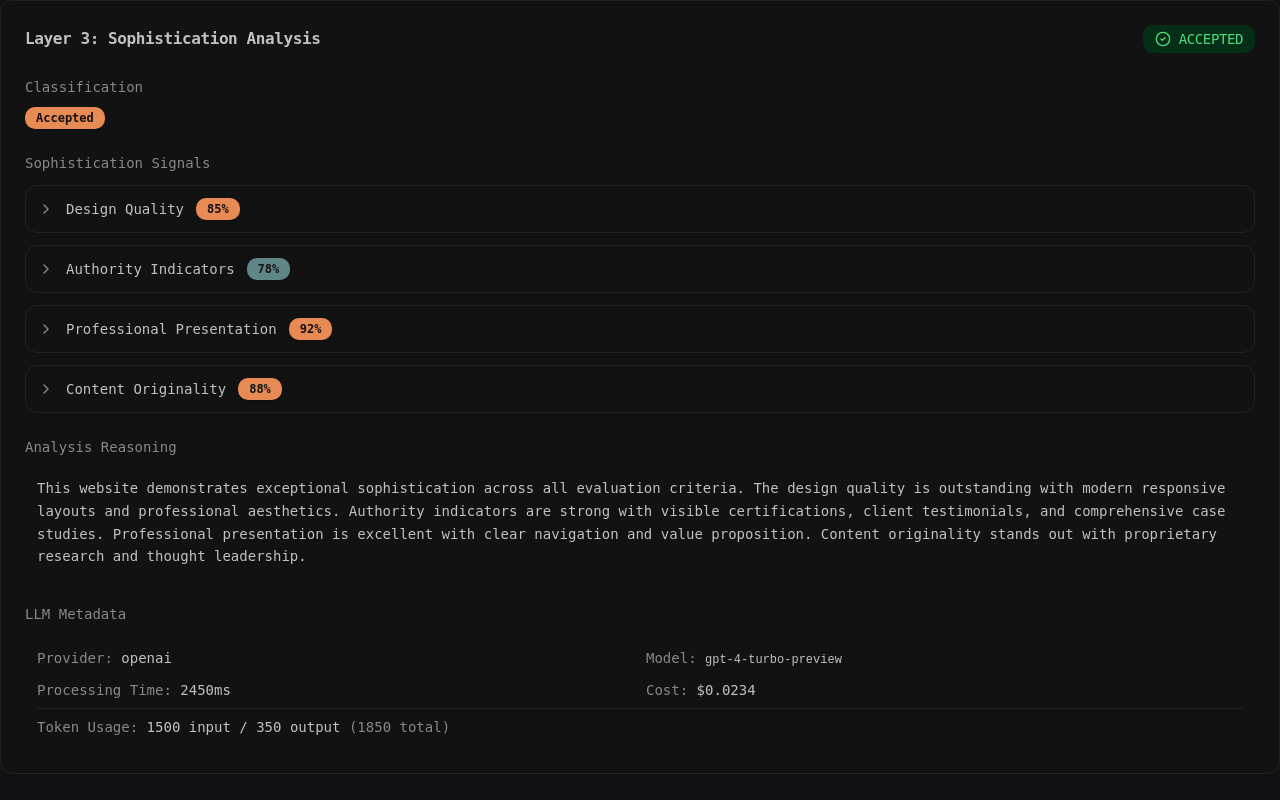
Test: Layer3Factors Display Component › Sophistication Signals Display › should show signal indicators as badges when section is expanded
Note: Expand design quality section
Click the button "Design Quality 85%".
click(125, 209)  # box [26, 186, 1254, 232]
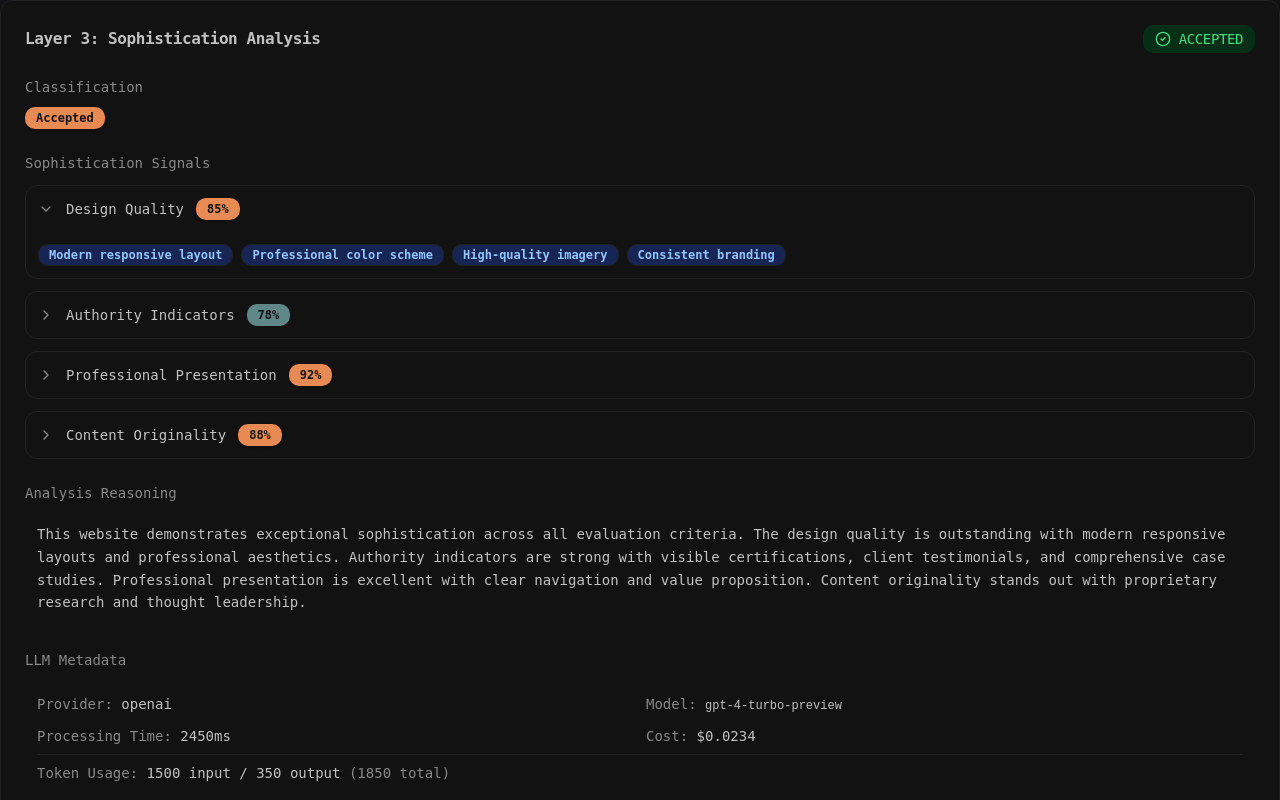
Result: the text "Modern responsive layout" is shown at [38, 244, 233, 266]
Result: the text "Professional color scheme" is shown at [241, 244, 444, 266]
Result: the text "High-quality imagery" is shown at [452, 244, 618, 266]
